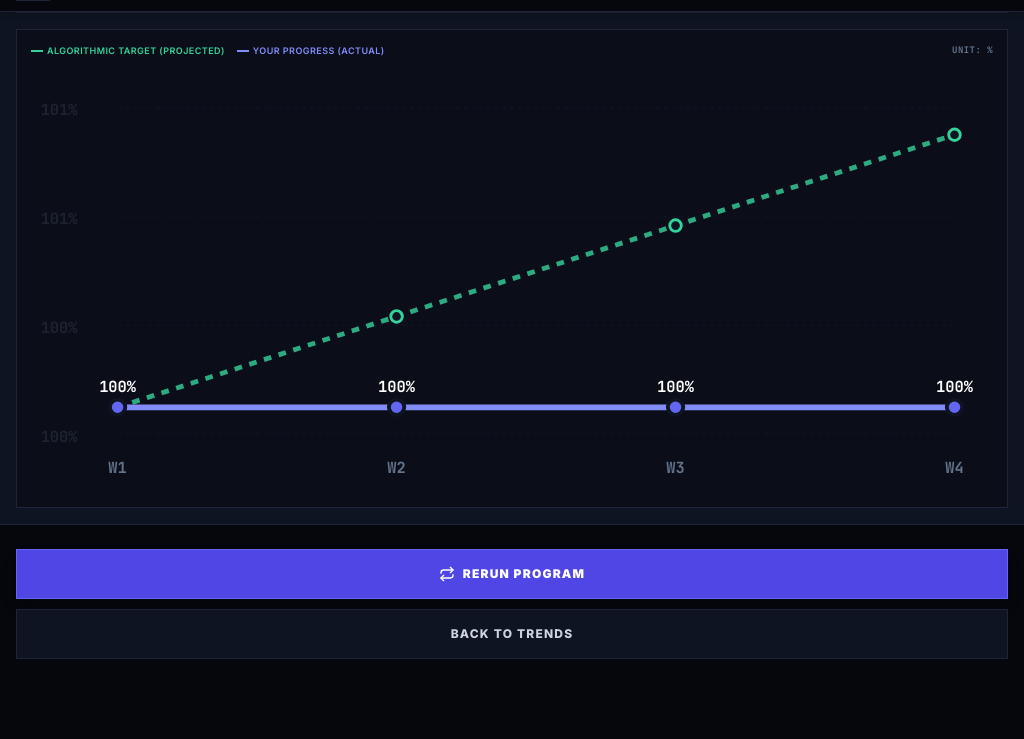
Test case: RPC-2B: Program Report Card Rerun Action Suite › opens confirmation modal with formatted next cycle name and metadata upon clicking Rerun Program
(page scrolled)
Click the button "Rerun Program" at (512, 574), box [16,548,1008,598]
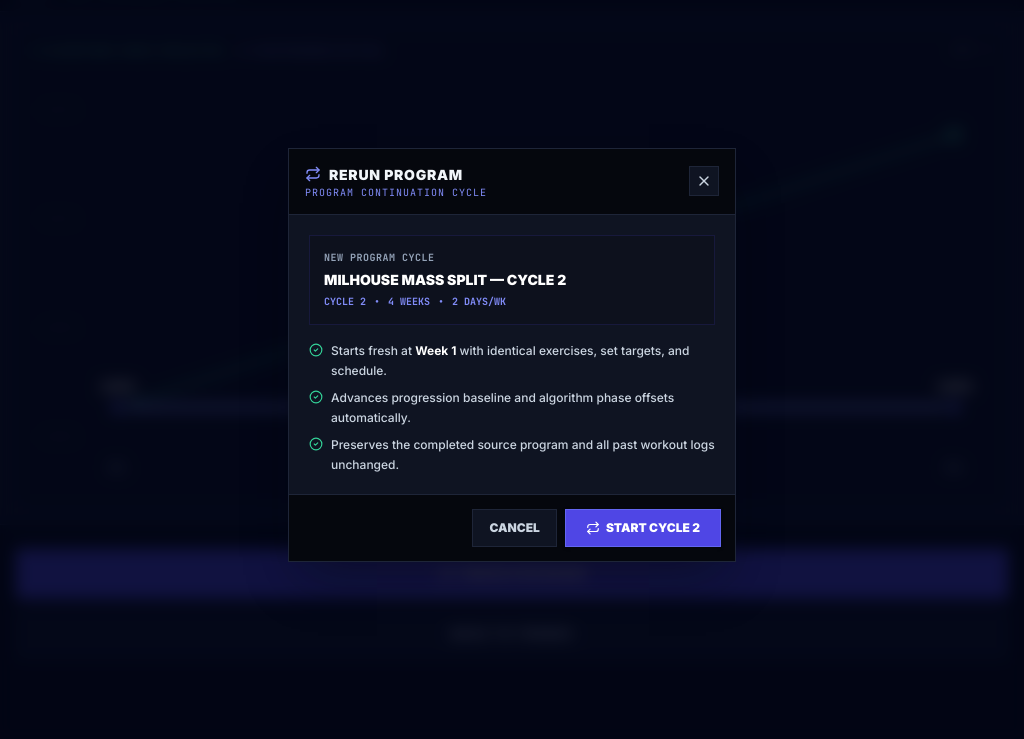
Check: the text "Program Continuation Cycle" is shown, box [305,188,487,198]
Check: the text "Milhouse Mass Split — Cycle 2" is shown, box [324,271,566,288]
Check: the text "Cycle 2" is shown, box [324,294,366,310]
